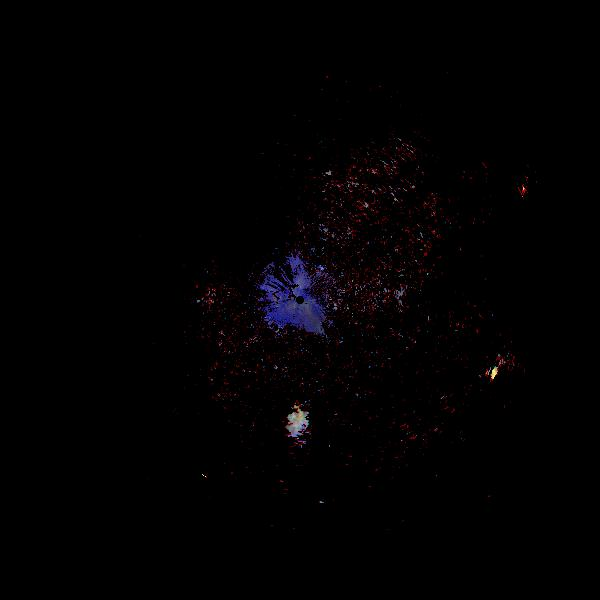roost: (282, 410, 303, 431), (319, 502, 325, 508)
